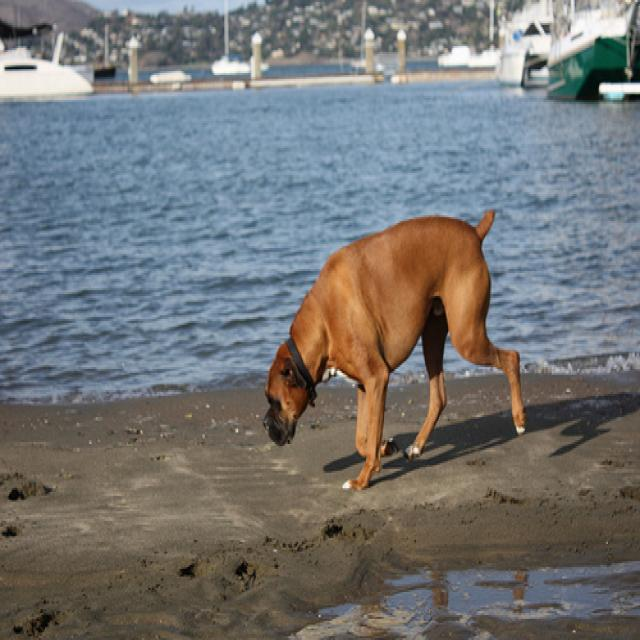dog-boxer: (259, 209, 527, 504)
